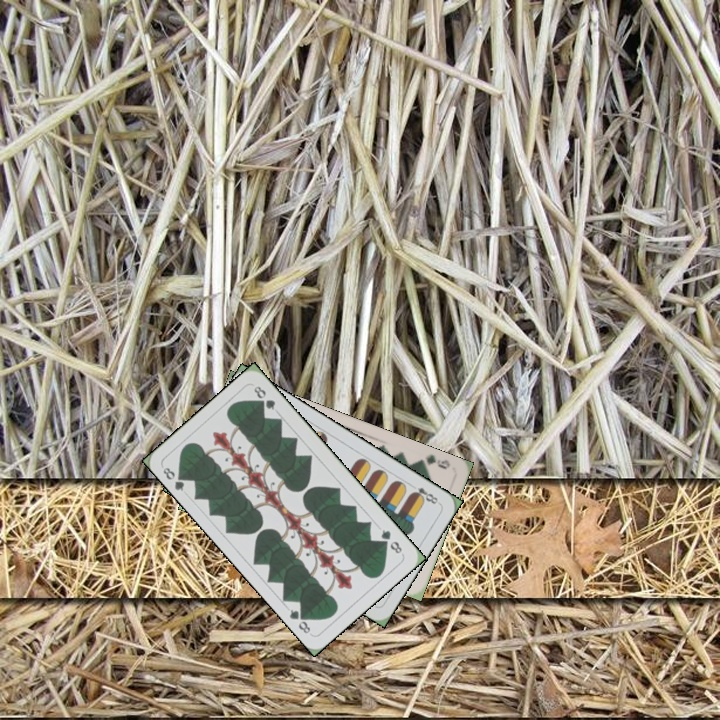E8: (406, 480, 442, 507)
G8: (159, 463, 189, 494), (377, 525, 405, 556)
G9: (413, 450, 453, 472)
